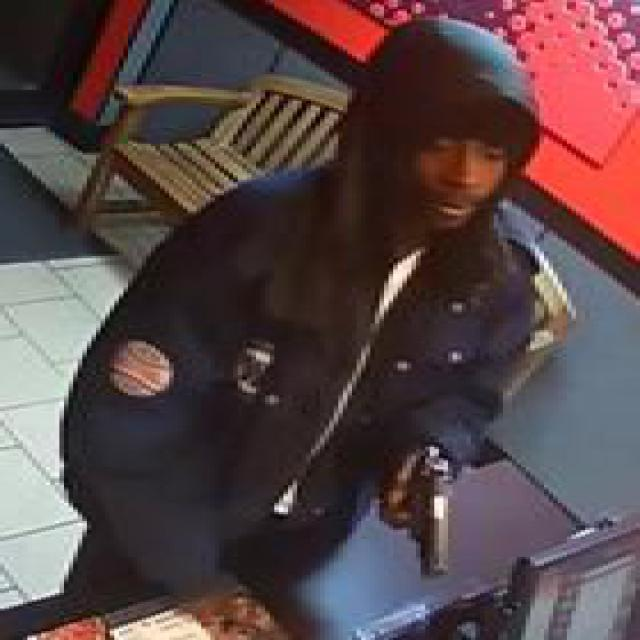Gun: (374, 452, 476, 580)
